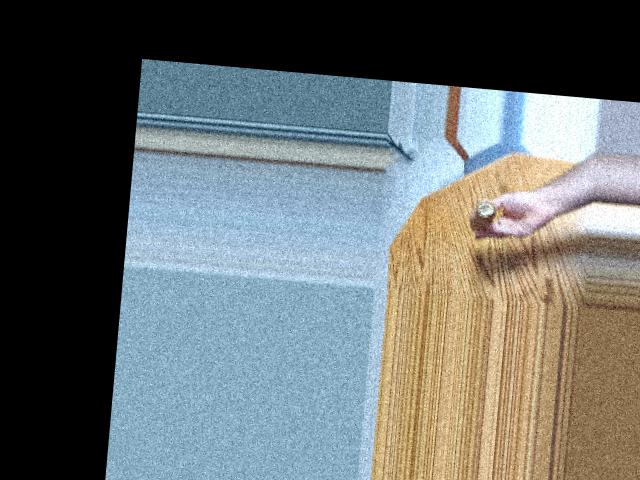sweet_potato: (464, 193, 505, 235)
